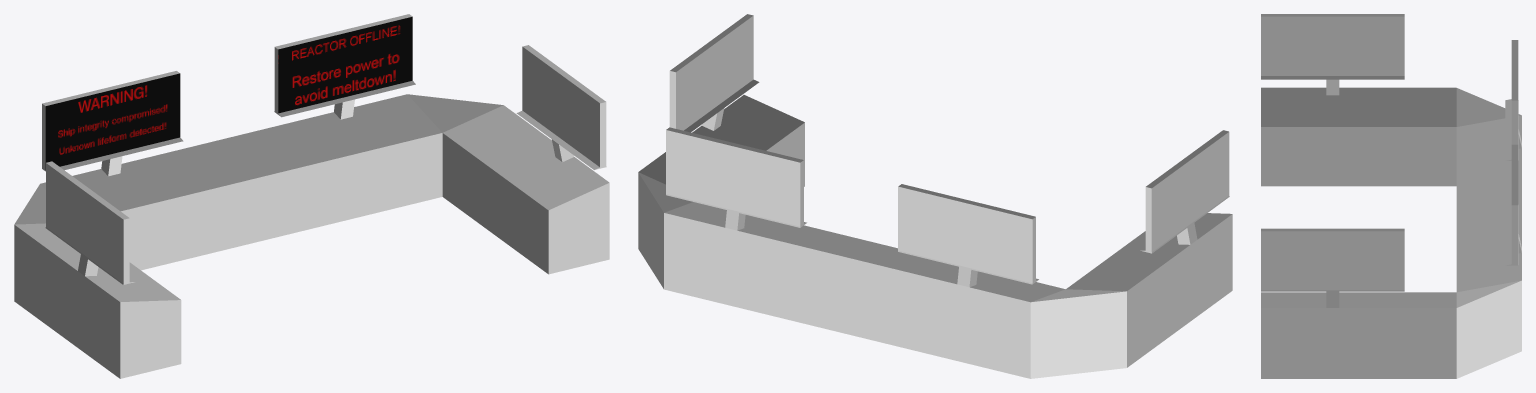
The model's file is obj_computerTerminal_dylan.dae.
The picture shows the model from 3 angles, left to right: view 1: azimuth 30°, elevation 25°; view 2: azimuth 150°, elevation 25°; view 3: azimuth 270°, elevation 25°; orthographic projection. The views are drawn at different scales.
Parts seen in each view (by area): view 1: mesh0%root%1%, mesh0%root%2%, mesh0%root%0%; view 2: mesh0%root%1%; view 3: mesh0%root%1%.
Part boxes in pixels (bbox=[...]): mesh0%root%1%: bbox=[14, 14, 609, 378]; mesh0%root%2%: bbox=[278, 16, 412, 113]; mesh0%root%0%: bbox=[45, 73, 180, 169]; mesh0%root%1%: bbox=[638, 14, 1232, 378]; mesh0%root%1%: bbox=[1261, 14, 1521, 378].
Bounding box in the file's own units: 8 × 2.47 × 4.
